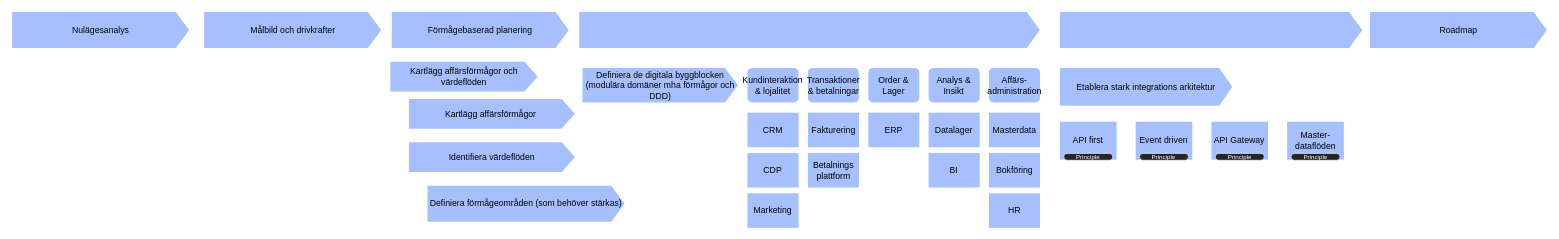
The diagram is 1559 pixels wide and 239 high, and some of its shapes have lost their labels. Each missing label, with the centre of its shape:
"Definiera domäner/subdomäner" belongs at (809,30).
"Integrationsstrategi" belongs at (1210,30).
